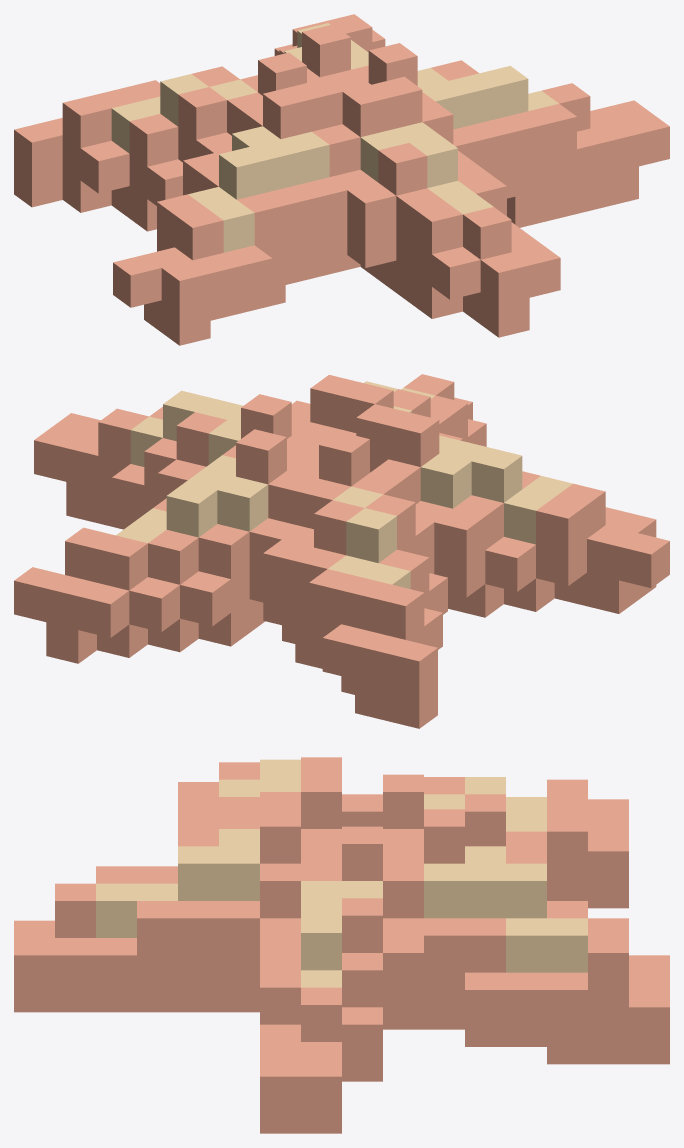
File: starfish.glb
3 views of the same model, one above another, from view 1: azimuth 30°, elevation 25°; view 2: azimuth 150°, elevation 25°; view 3: azimuth 270°, elevation 25° (orthographic). The views are drawn at different scales.
Bounding box in the file's own units: 0.75 × 0.2083 × 0.6667.
